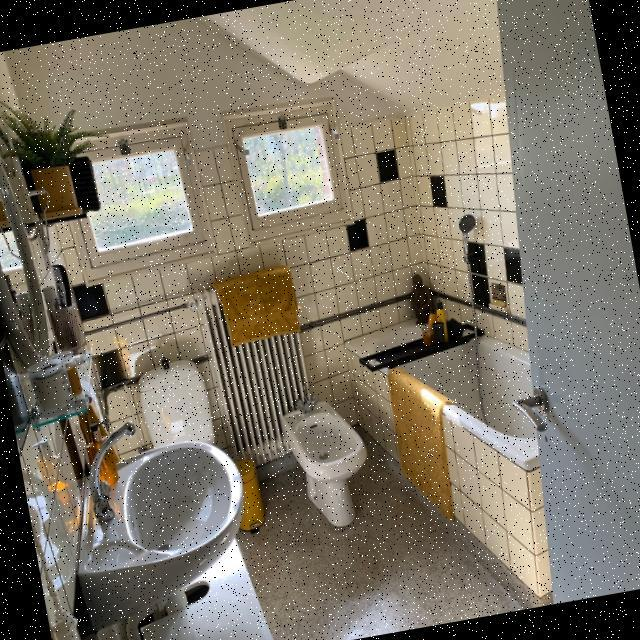bath: (338, 294, 560, 553)
toilet: (273, 378, 379, 536), (132, 349, 218, 453)
wastafel: (49, 402, 264, 636)
